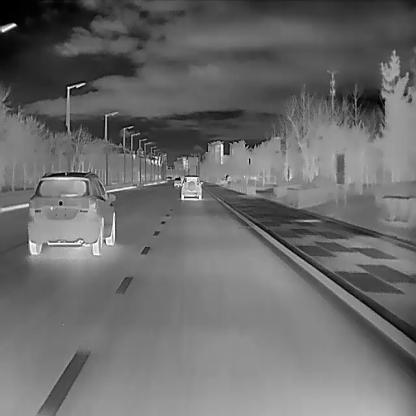car: (26, 170, 115, 255), (180, 174, 202, 200), (174, 177, 182, 187)
